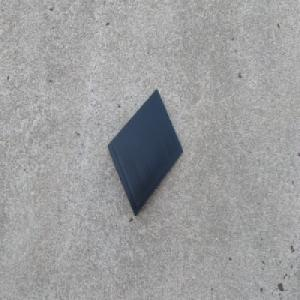PlasticPart: (107, 87, 184, 216)
